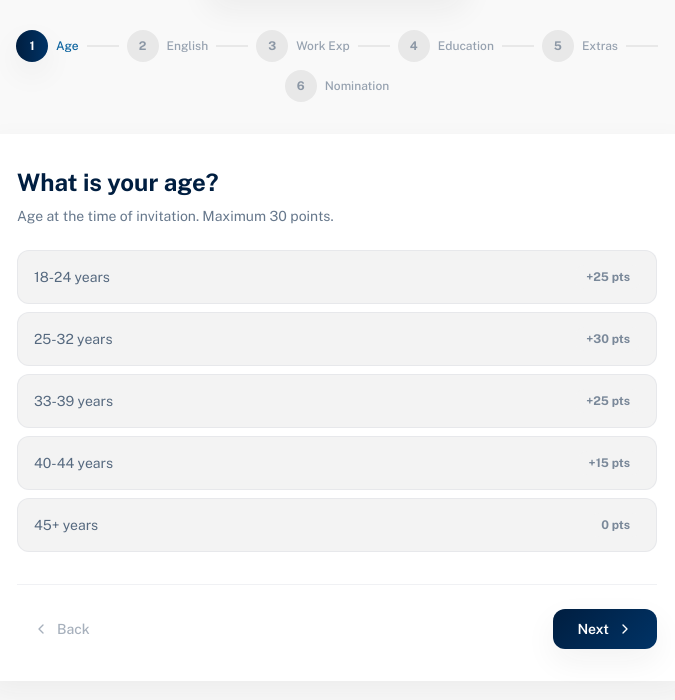
PointsCalculatorPage › navigates to the next step
(page scrolled)
What coordinates should you click on to do the following:
click the button "Next"
I would click on:
 (605, 629)
Its box is left=553, top=609, right=657, bottom=649.
(page scrolled)
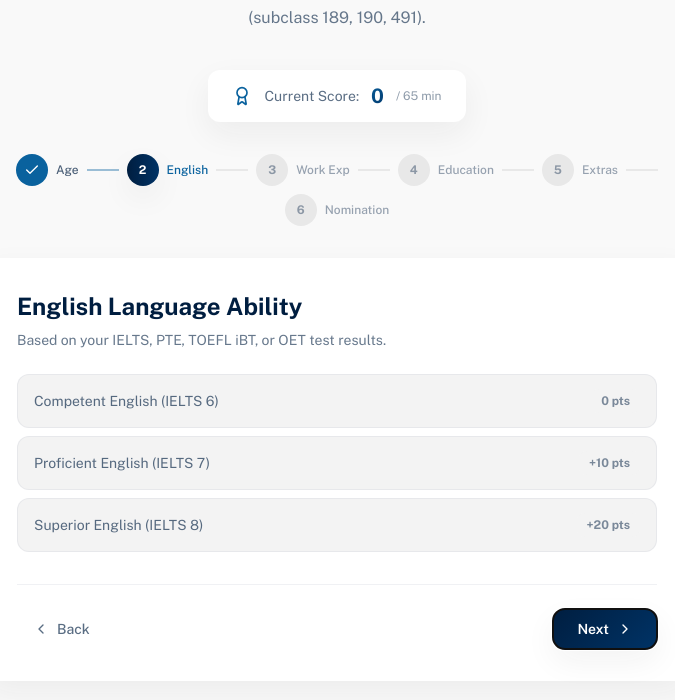
Result: the heading "English Language Ability" is shown at left=17, top=292, right=302, bottom=320
Result: the text "Superior English (IELTS 8)" is shown at left=34, top=515, right=203, bottom=535
